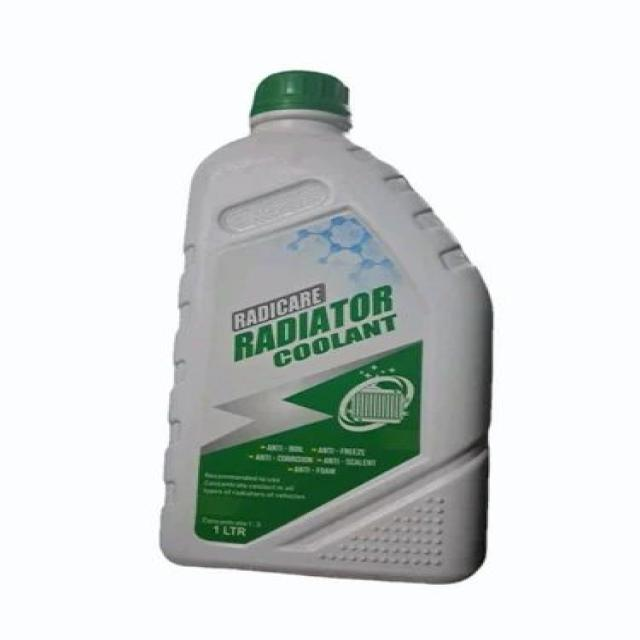coolant: (156, 60, 504, 594)
